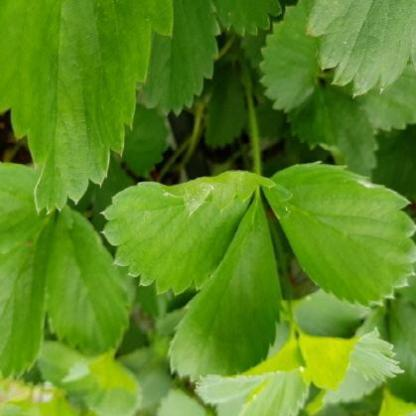Strawberry_Powdery_Mildew_Leaf: (99, 169, 276, 296), (264, 160, 414, 309)
